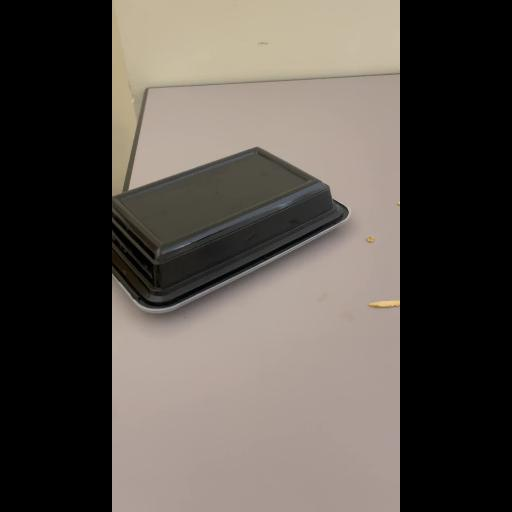rigid_plastic_container: (112, 142, 348, 310)
